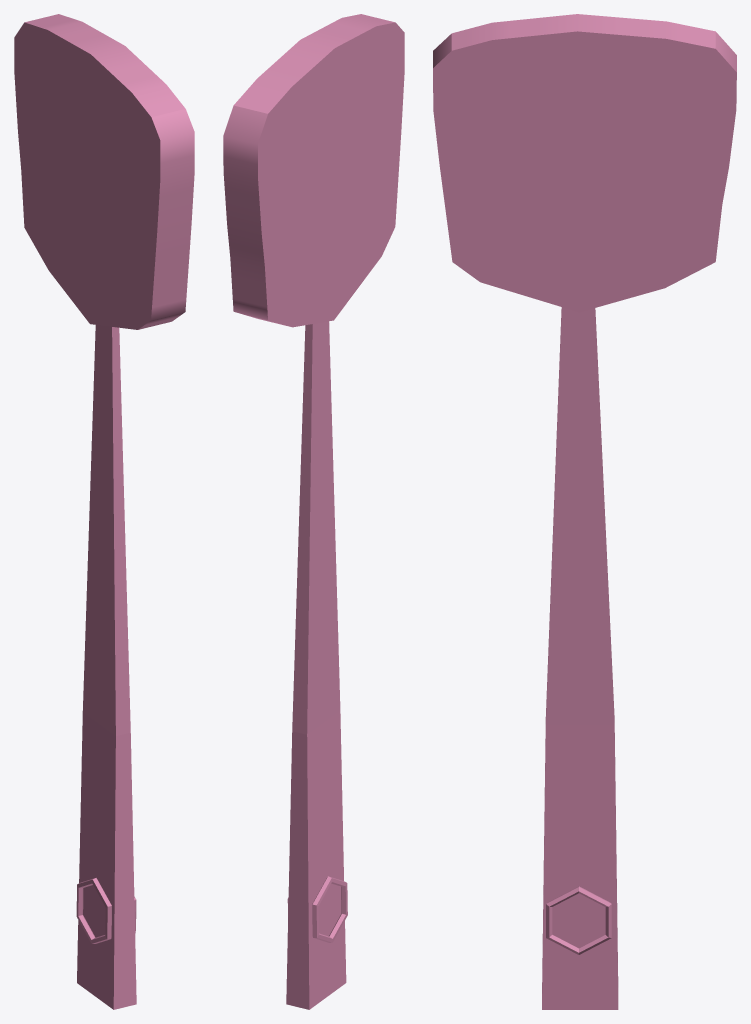
File: sineksopa.fbx
The picture shows the model from 3 angles, left to right: view 1: azimuth 30°, elevation 25°; view 2: azimuth 150°, elevation 25°; view 3: azimuth 270°, elevation 25°; orthographic projection. The views are drawn at different scales.
Visible parts, largest first — view 1: pTorus3; view 2: pTorus3; view 3: pTorus3.
Boxes of the visible parts, left/top/right/bottom form: pTorus3: left=14, top=14, right=194, bottom=1009; pTorus3: left=223, top=14, right=404, bottom=1009; pTorus3: left=433, top=14, right=736, bottom=1009.
Bounding box in the file's own units: 0.5214 × 13.68 × 3.84.
